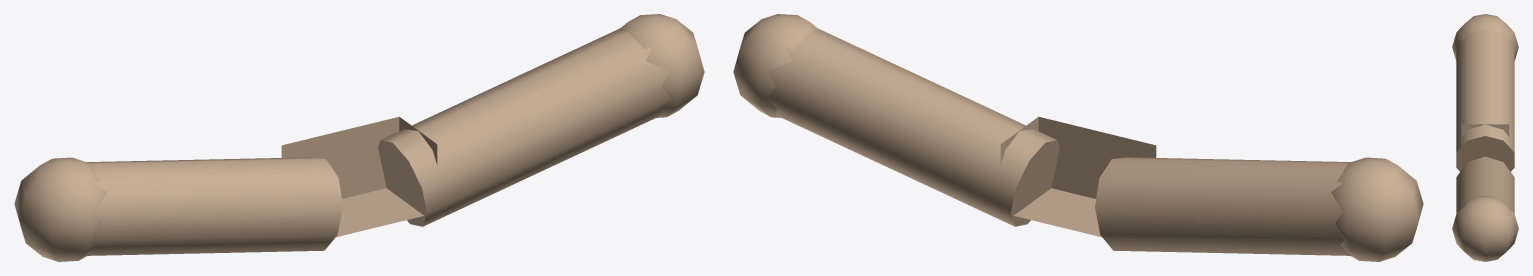
The model's file is handlebar_mustache.glb.
3 renders of one model, left to right at view 1: azimuth 30°, elevation 25°; view 2: azimuth 150°, elevation 25°; view 3: azimuth 270°, elevation 25°, orthographic. The views are drawn at different scales.
Parts seen in each view (by area): view 1: Handlebar Mustache; view 2: Handlebar Mustache; view 3: Handlebar Mustache.
Boxes of the visible parts, <box> form: Handlebar Mustache: <box>14,14,704,261</box>; Handlebar Mustache: <box>733,14,1423,261</box>; Handlebar Mustache: <box>1452,14,1518,261</box>.
Size of the model in its own units: 0.52 by 0.1071 by 0.07.
